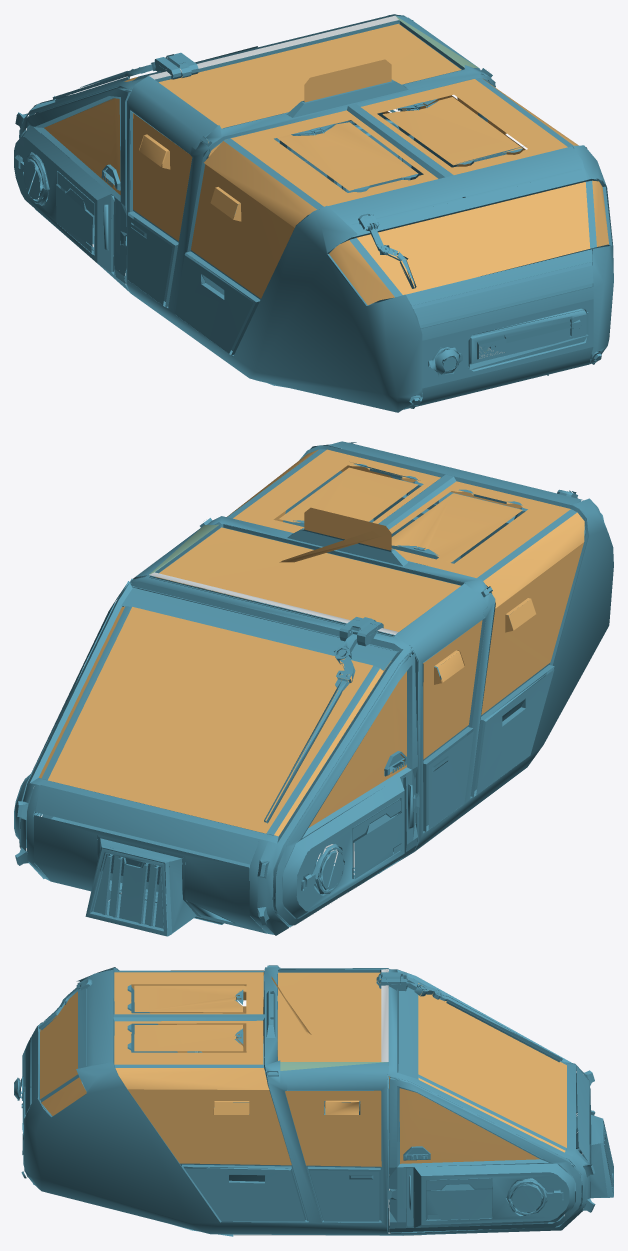
The model's file is SUP_Hackney_“Black_Cab_AGV.glb.
The picture shows the model from 3 angles, top to bottom: view 1: azimuth 30°, elevation 25°; view 2: azimuth 150°, elevation 25°; view 3: azimuth 270°, elevation 25°; orthographic projection. The views are drawn at different scales.
Parts seen in each view (by area): view 1: SUP_Hackney_“Black_Cab_AGV; view 2: SUP_Hackney_“Black_Cab_AGV; view 3: SUP_Hackney_“Black_Cab_AGV.
Part boxes in pixels (x1,y1,x2,y2): SUP_Hackney_“Black_Cab_AGV: (14,14,613,412); SUP_Hackney_“Black_Cab_AGV: (14,441,613,936); SUP_Hackney_“Black_Cab_AGV: (14,965,613,1236).
Bounding box in the file's own units: 2.29 × 1.88 × 4.94.
